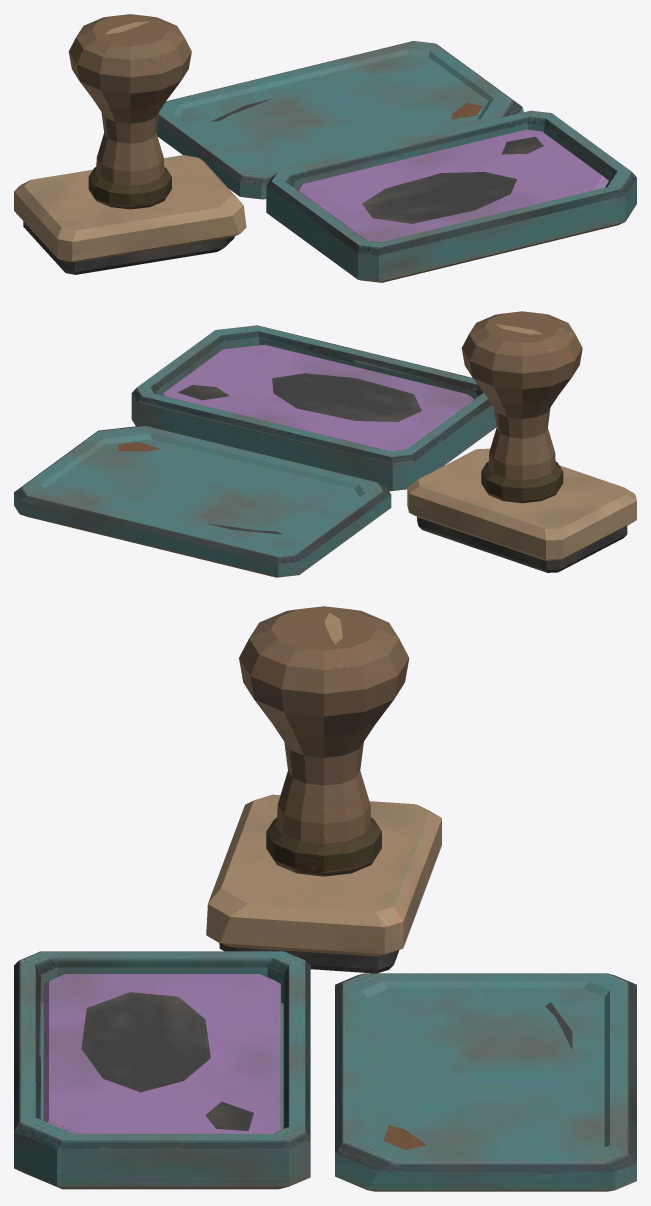
File: O15_rubber_stamp_and_pad.glb
3 views of the same model, one above another, from view 1: azimuth 30°, elevation 25°; view 2: azimuth 150°, elevation 25°; view 3: azimuth 270°, elevation 25° (orthographic). The views are drawn at different scales.
Parts seen in each view (by area): view 1: Rubber die; view 2: Rubber die; view 3: Rubber die.
Part boxes in pixels (<box>): Rubber die: <box>14,14,636,282</box>; Rubber die: <box>14,311,636,577</box>; Rubber die: <box>14,606,636,1191</box>.
Bounding box in the file's own units: 0.15 × 0.059 × 0.1154.
Materials: 9 (9 with a texture image).
